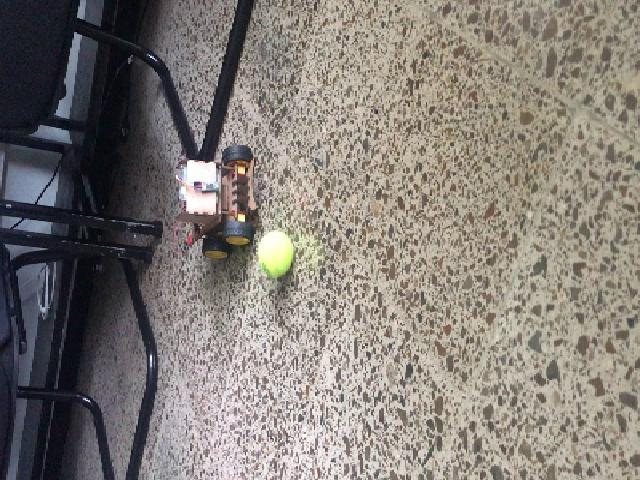Ball: (254, 230, 293, 277)
Robot: (173, 145, 253, 260)
